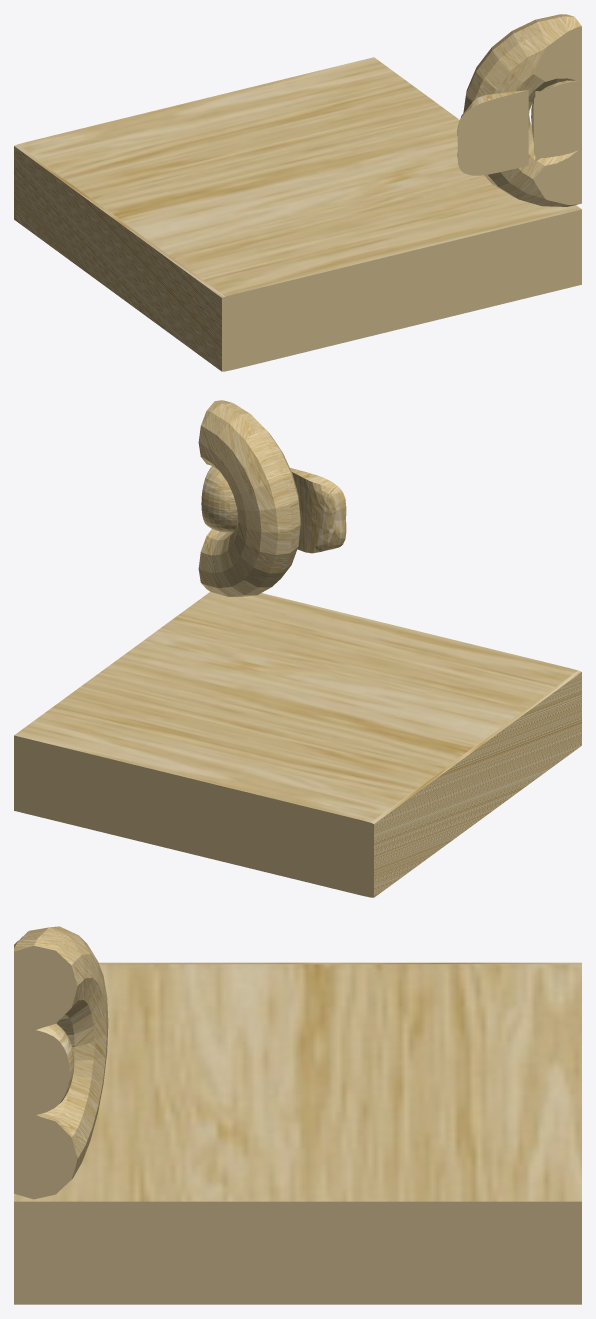
Rendered from 3_Holzbahn.fbx.
3 renders of one model, top to bottom at view 1: azimuth 30°, elevation 25°; view 2: azimuth 150°, elevation 25°; view 3: azimuth 270°, elevation 25°, orthographic. The views are drawn at different scales.
Parts seen in each view (by area): view 1: Cube.014, Cube.034, Cube.031; view 2: Cube.014, Cube.034, Cube.031; view 3: Cube.014, Cube.034, Cube.031.
Boxes of the visible parts, bbox=[...] form: Cube.014: bbox=[14, 57, 581, 371]; Cube.034: bbox=[463, 14, 581, 206]; Cube.031: bbox=[457, 80, 581, 175]; Cube.014: bbox=[14, 592, 581, 897]; Cube.034: bbox=[198, 400, 300, 596]; Cube.031: bbox=[201, 466, 346, 553]; Cube.014: bbox=[14, 962, 581, 1304]; Cube.034: bbox=[14, 926, 108, 1199]; Cube.031: bbox=[14, 1023, 74, 1118].
Size of the model in its own units: 500 by 350 by 500.
